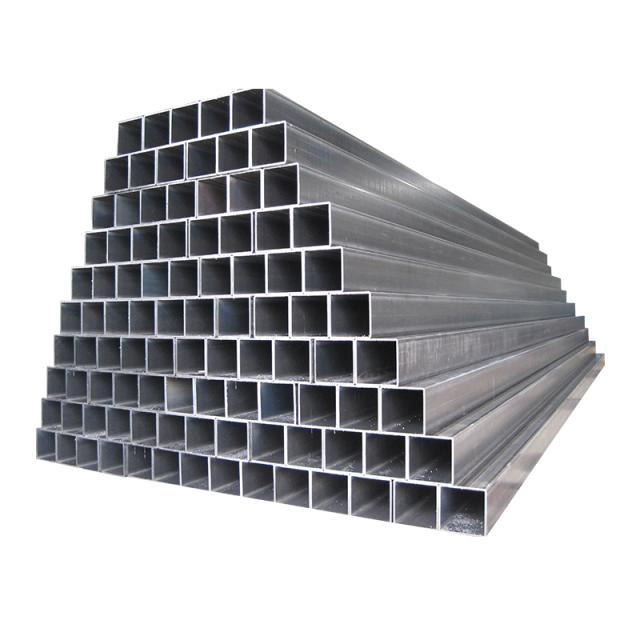Dry Waste: (25, 68, 640, 545)
